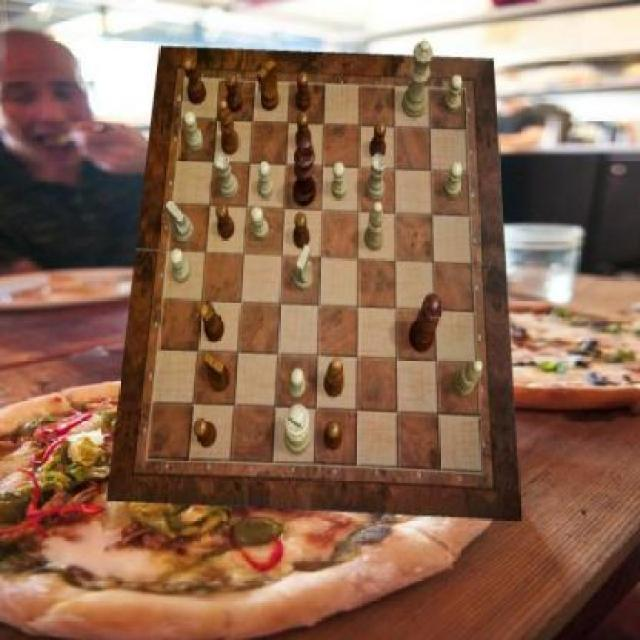bishop: (218, 100, 240, 156), (324, 358, 346, 398)
black-bishop: (294, 140, 317, 208)
black-king: (257, 58, 279, 111), (204, 352, 230, 392)
black-knight: (194, 418, 217, 448), (216, 203, 234, 241), (294, 212, 311, 250), (369, 122, 386, 160), (225, 74, 242, 112), (296, 72, 312, 112), (296, 112, 312, 151), (325, 422, 342, 451)
black-pawn: (409, 294, 443, 354)
black-queen: (183, 56, 207, 104), (200, 298, 225, 341)
black-rook: (452, 360, 483, 398), (364, 202, 386, 250)
white-bishop: (284, 404, 312, 456)
white-king: (167, 200, 196, 244), (294, 244, 314, 290)
white-knight: (184, 112, 203, 152), (444, 162, 464, 199), (171, 249, 191, 284), (445, 75, 462, 114), (251, 206, 268, 241), (258, 162, 274, 199), (332, 162, 348, 199), (288, 368, 305, 398)
white-pawn: (401, 40, 434, 118)
white-queen: (216, 154, 240, 200), (366, 154, 386, 201)
